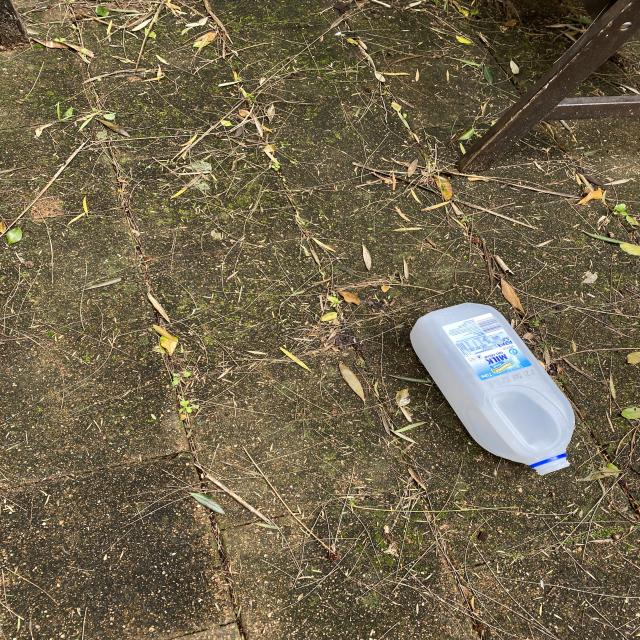bottle: (408, 300, 578, 483)
